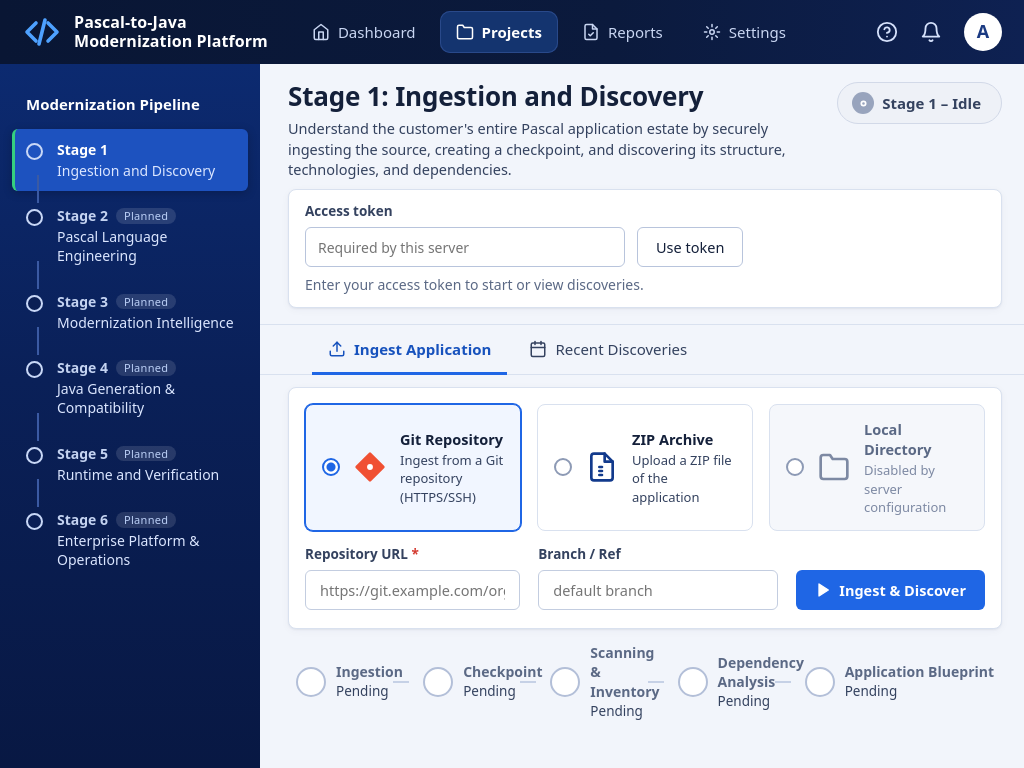
Test case: App with auth_required › blocks discoveries, lists and the deep link until a token is entered
In the field labelled "Repository URL *": (413, 590) top-left (305, 570), bottom-right (520, 610), type "https://x/y.git"
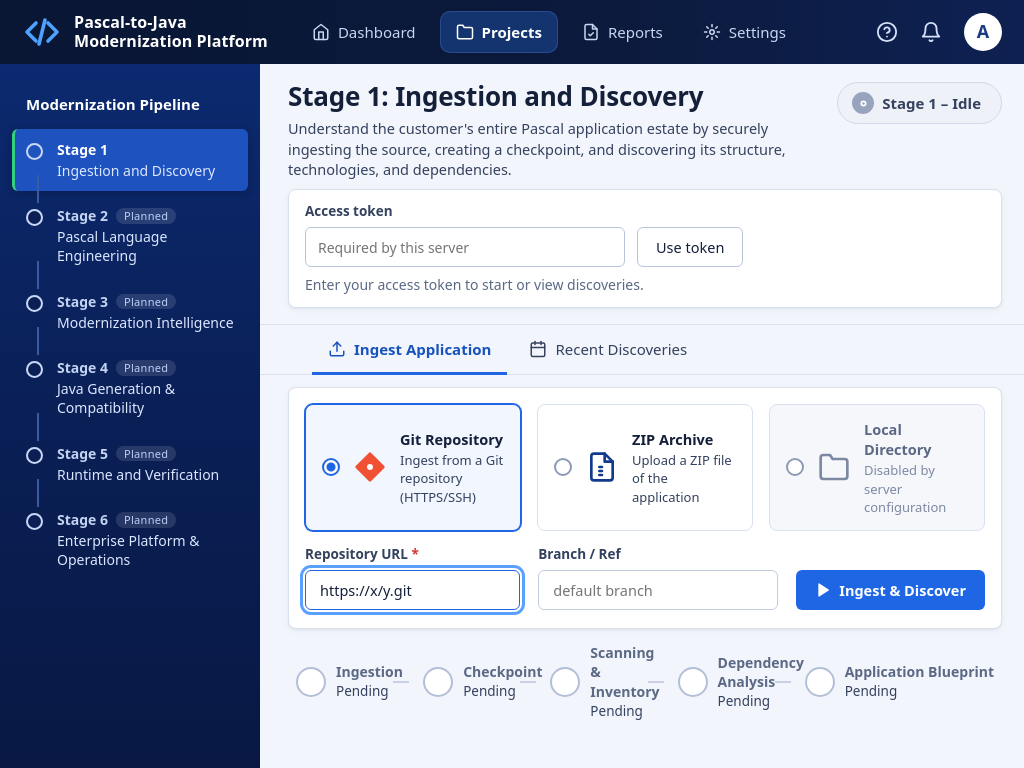
Click the button "Ingest & Discover": (891, 590) top-left (796, 570), bottom-right (985, 610)
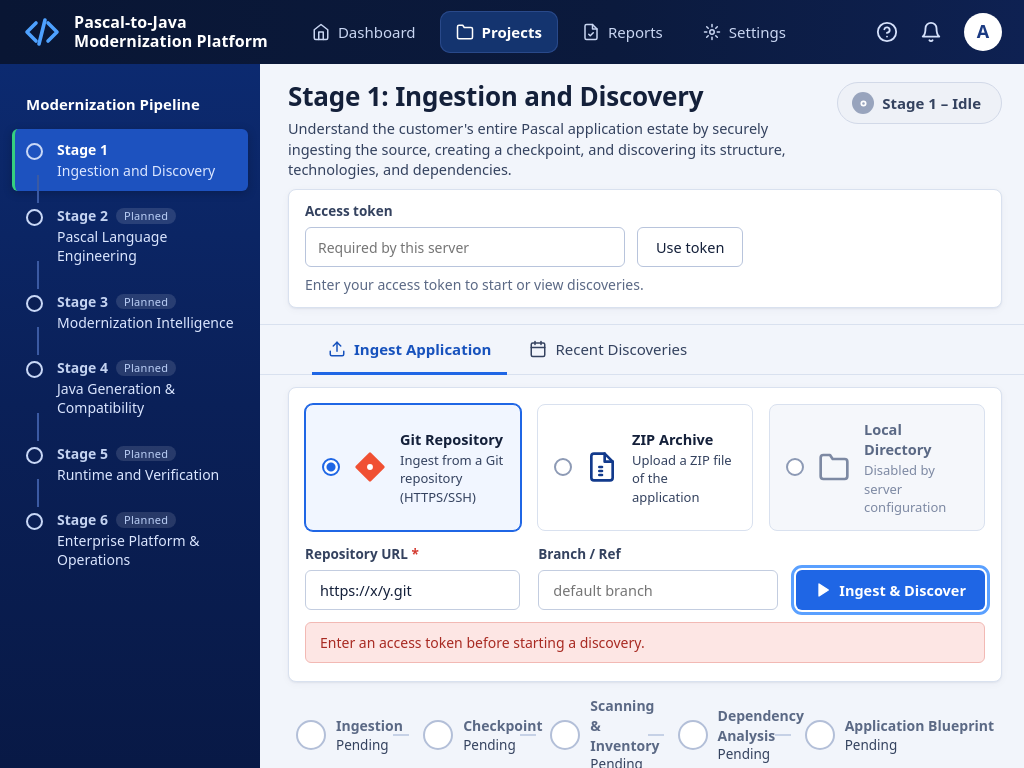
expect the text "Enter an access token before starting a discovery." is shown: met, box top-left (305, 622), bottom-right (985, 663)
Click the tab "Recent Discoveries": (608, 350) top-left (513, 325), bottom-right (703, 375)
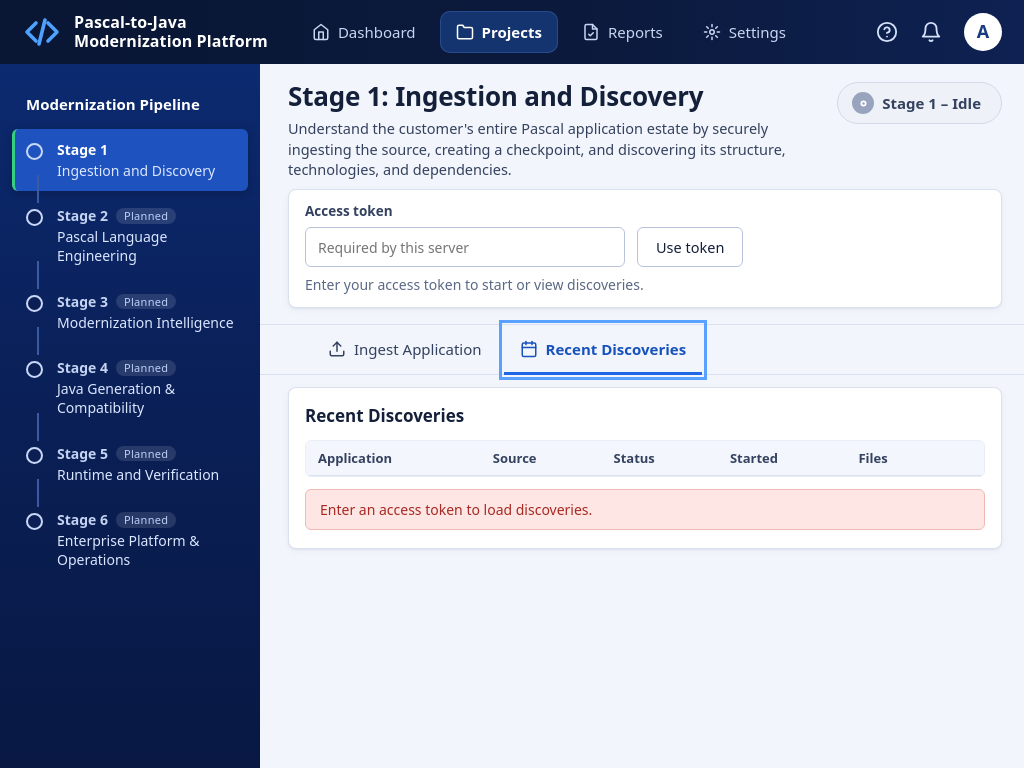
expect the text "Enter an access token to load discoveries." is shown: met, box top-left (305, 489), bottom-right (985, 530)
In the password field labelled "Access token": (465, 247) top-left (305, 227), bottom-right (625, 267), type "tok123"
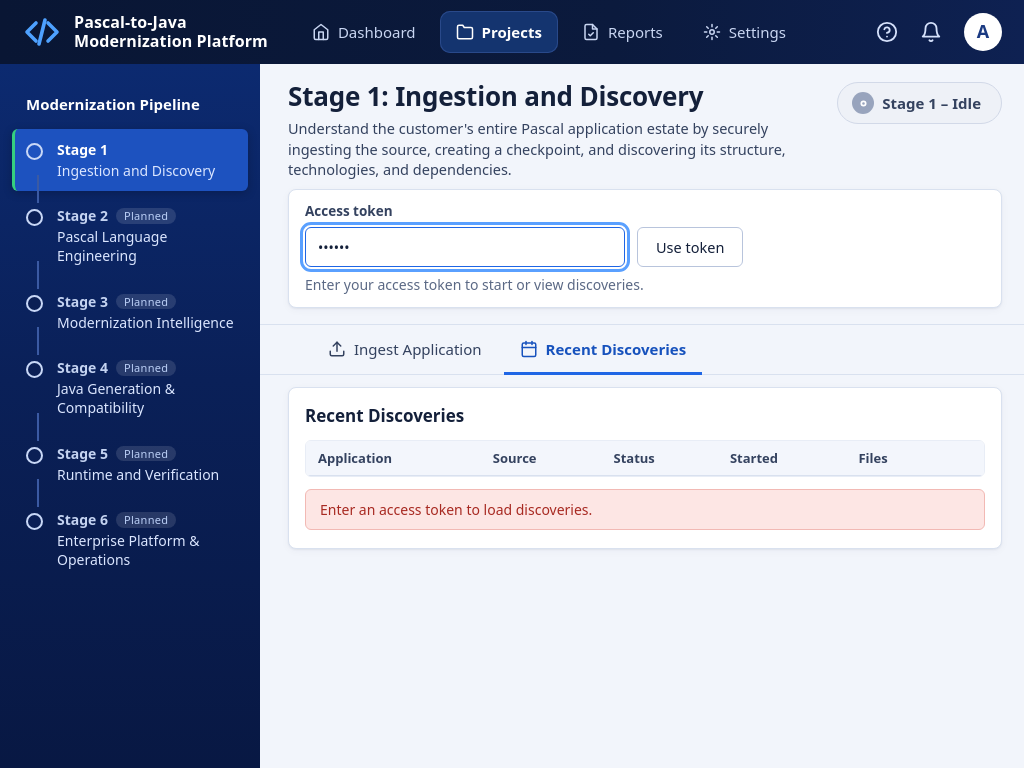
Click the button "Use token": (690, 247) top-left (637, 227), bottom-right (743, 267)
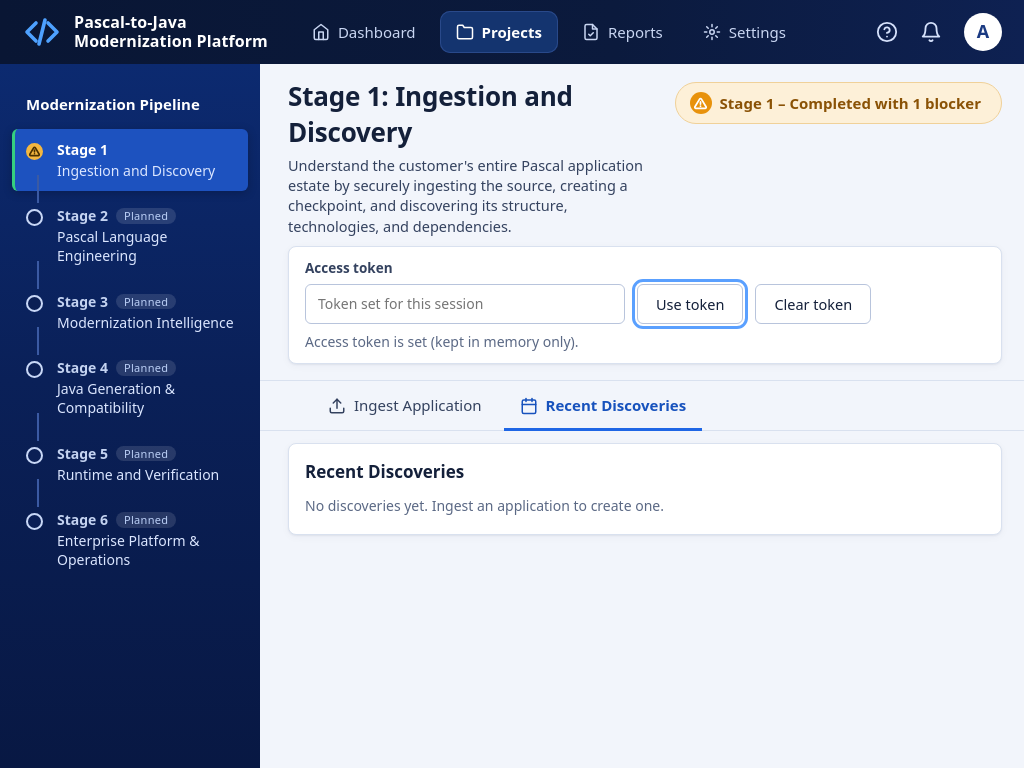
expect the text "Access token is set (kept in memory only)." is shown: met, box top-left (305, 332), bottom-right (578, 352)
expect the password field labelled "Access token" is empty: met, box top-left (305, 284), bottom-right (625, 324)
